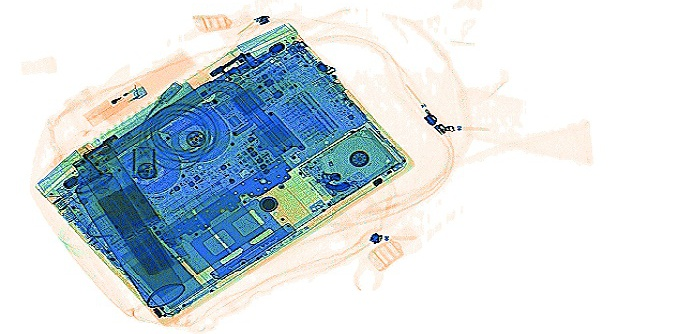lighter: (80, 79, 147, 126)
powerbank: (94, 181, 172, 275)
pressure: (72, 168, 185, 307)
zippooil: (72, 140, 158, 238)
